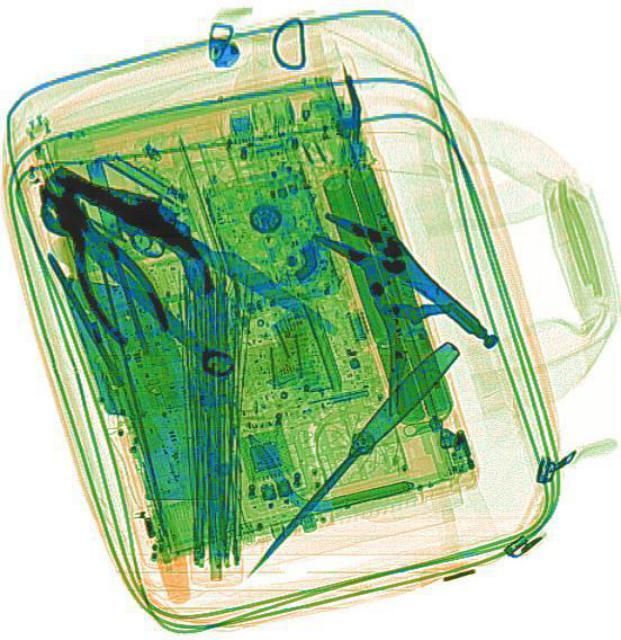Gun: (25, 158, 239, 298)
Knife: (231, 336, 462, 584), (46, 154, 345, 336)
Pliers: (28, 172, 177, 354)
Wrench: (30, 183, 244, 389)
